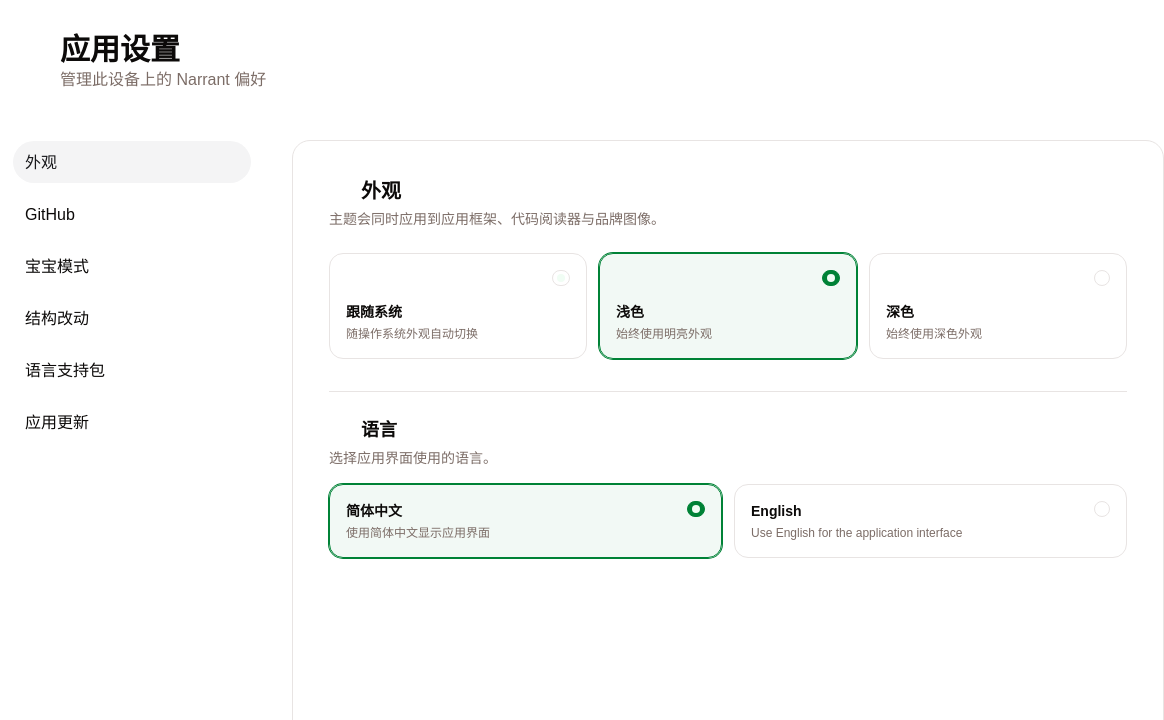
Test: Settings application-shell UI › 主题选择立即生效，持久化失败时恢复旧主题并显示可操作错误
The width and height of the screenshot is (1164, 720).
Check: the 2nd radio button named "浅色" is shown, box x1=822 y1=270 x2=840 y2=286
Step 1. Click the 3rd radio button named "深色" → [1102, 278], box x1=1094 y1=270 x2=1110 y2=286
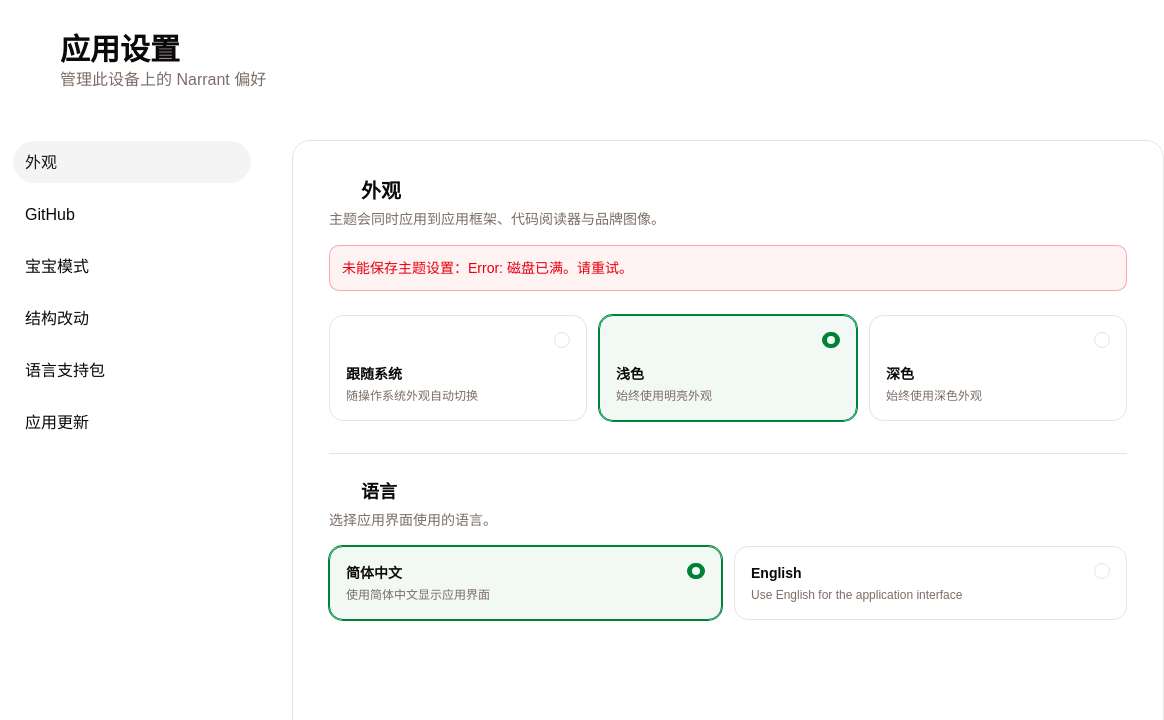
Check: the message shows "未能保存主题设置", box x1=342 y1=260 x2=633 y2=276
